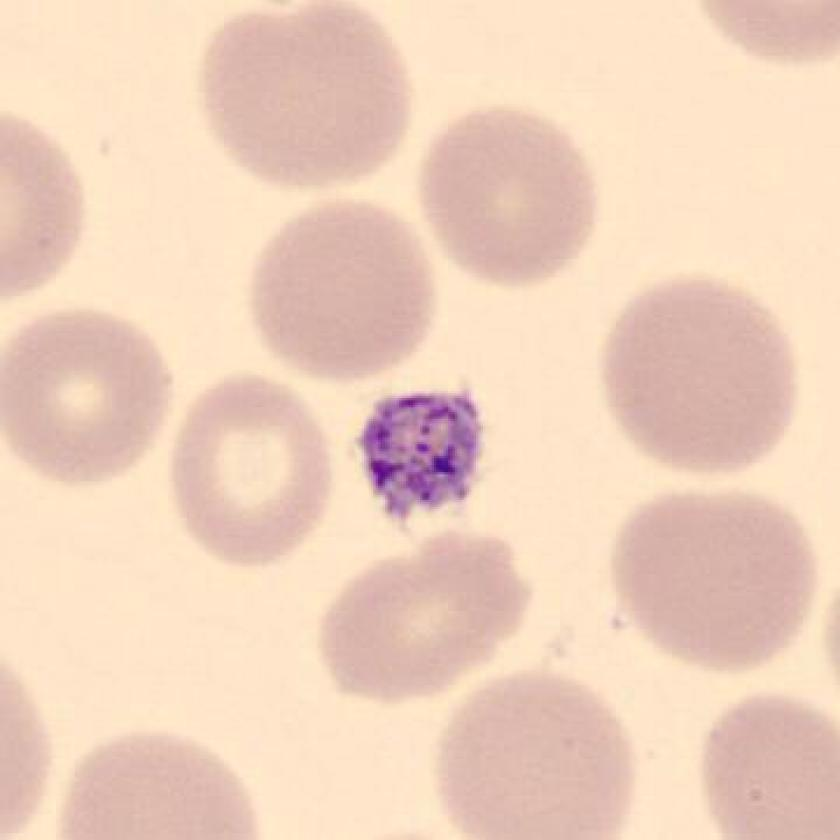platelets: (353, 378, 491, 531)
